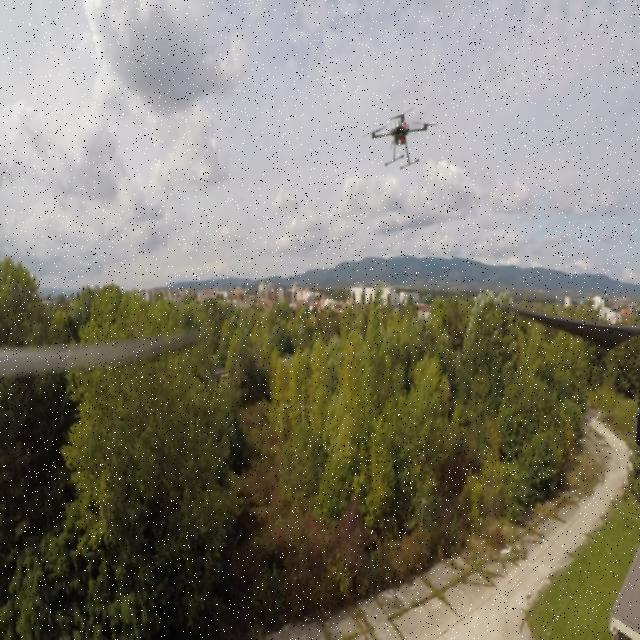UAV: (361, 101, 441, 175)
